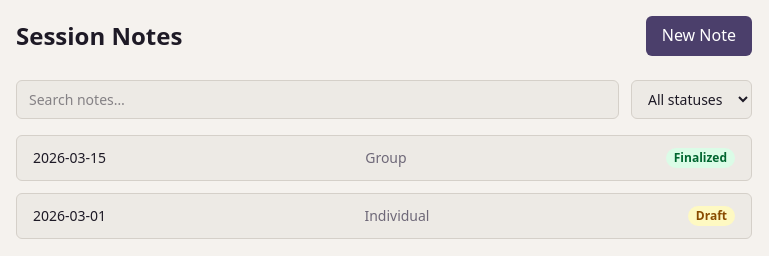
Test: Session history page › typing in the search box filters notes client-side
Expected: the text "2026-03-01" is shown, [33,206,106,226]
Type "individual" into the field with placeholder "Search notes…" at (318, 100), box [16,80,619,119]
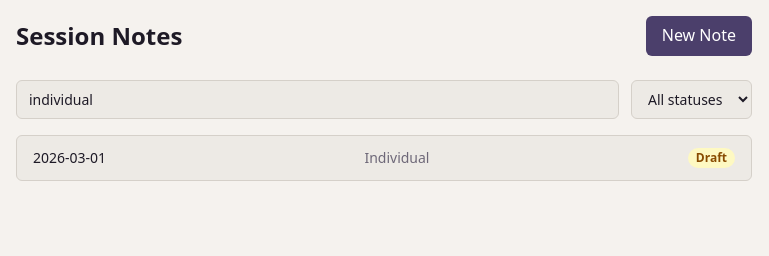
Expected: the text "2026-03-01" is shown, [33,148,106,168]
Result: the button "2026-03-15" is gone
